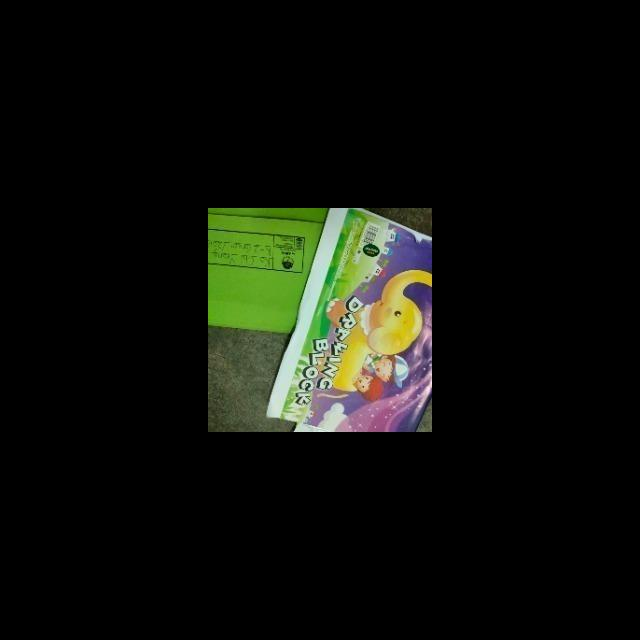paper: (289, 208, 429, 432), (208, 208, 340, 337)
